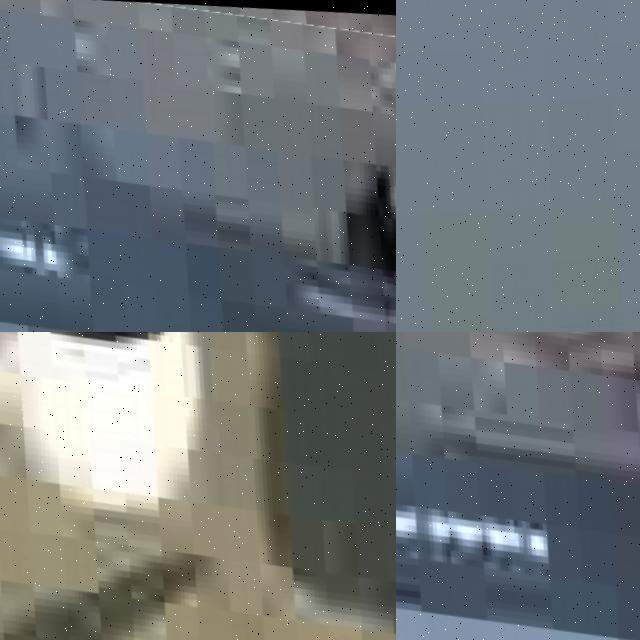drone: (0, 0, 396, 332), (0, 332, 396, 640), (396, 332, 640, 640)
